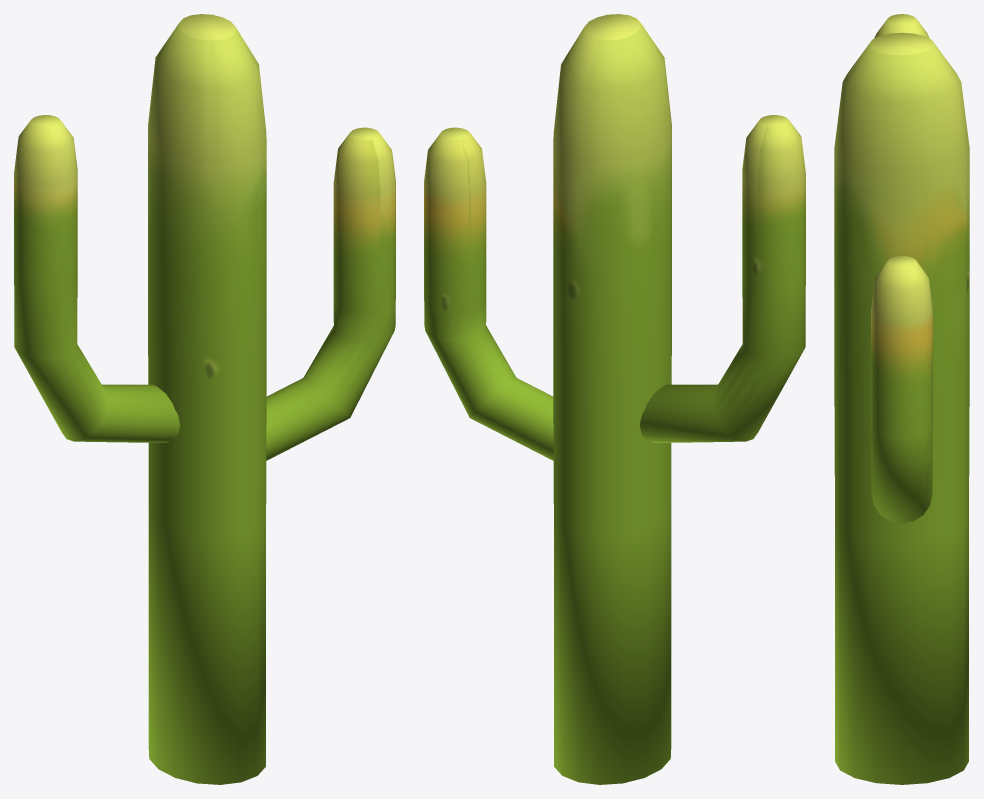
File: Cactus1.fbx
The picture shows the model from 3 angles, left to right: view 1: azimuth 30°, elevation 25°; view 2: azimuth 150°, elevation 25°; view 3: azimuth 270°, elevation 25°; orthographic projection.
Visible parts, largest first — view 1: Cylinder; view 2: Cylinder; view 3: Cylinder.
Boxes of the visible parts, left/top/right/bottom form: Cylinder: left=14, top=14, right=395, bottom=784; Cylinder: left=424, top=14, right=805, bottom=784; Cylinder: left=834, top=14, right=969, bottom=784.
Size of the model in its own units: 627 by 1170 by 200.
1 material, 1 textured.
